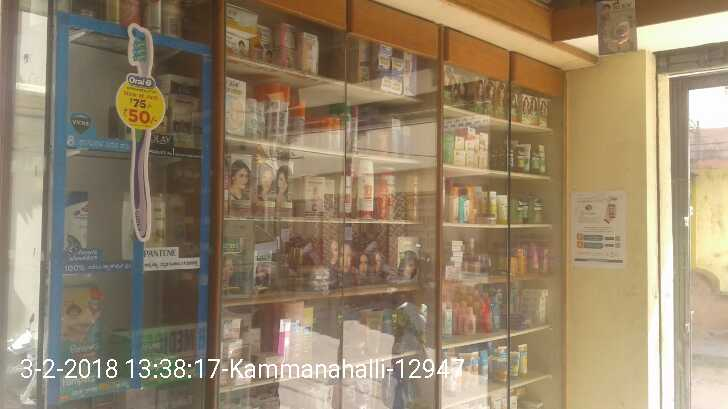beauty: (65, 189, 86, 248), (149, 190, 166, 248), (168, 74, 199, 104), (174, 103, 191, 146), (192, 112, 202, 148)
pharmacy: (63, 273, 103, 359)
